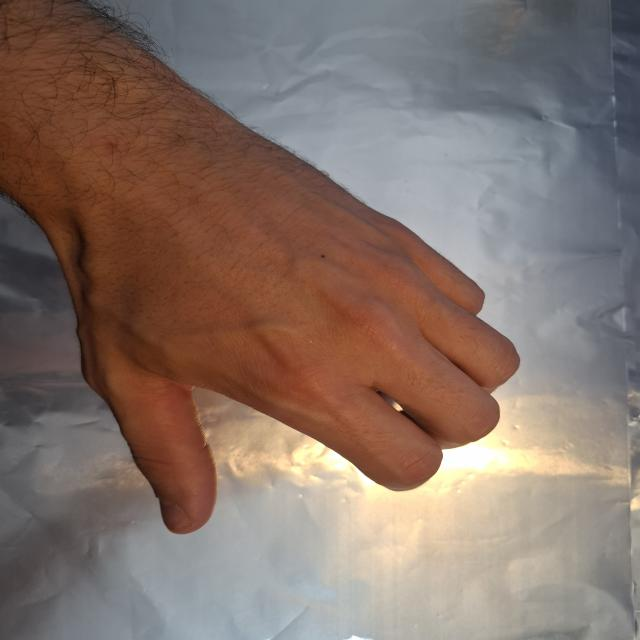glove_off: (31, 139, 526, 537)
